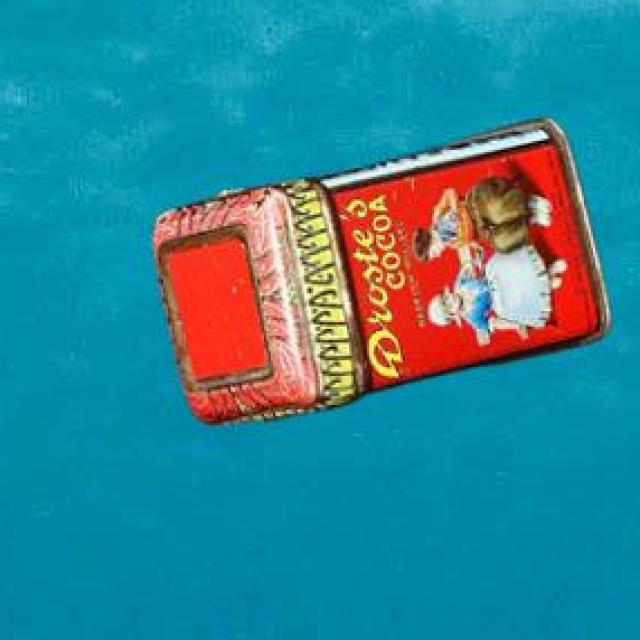logam: (158, 122, 614, 429)
